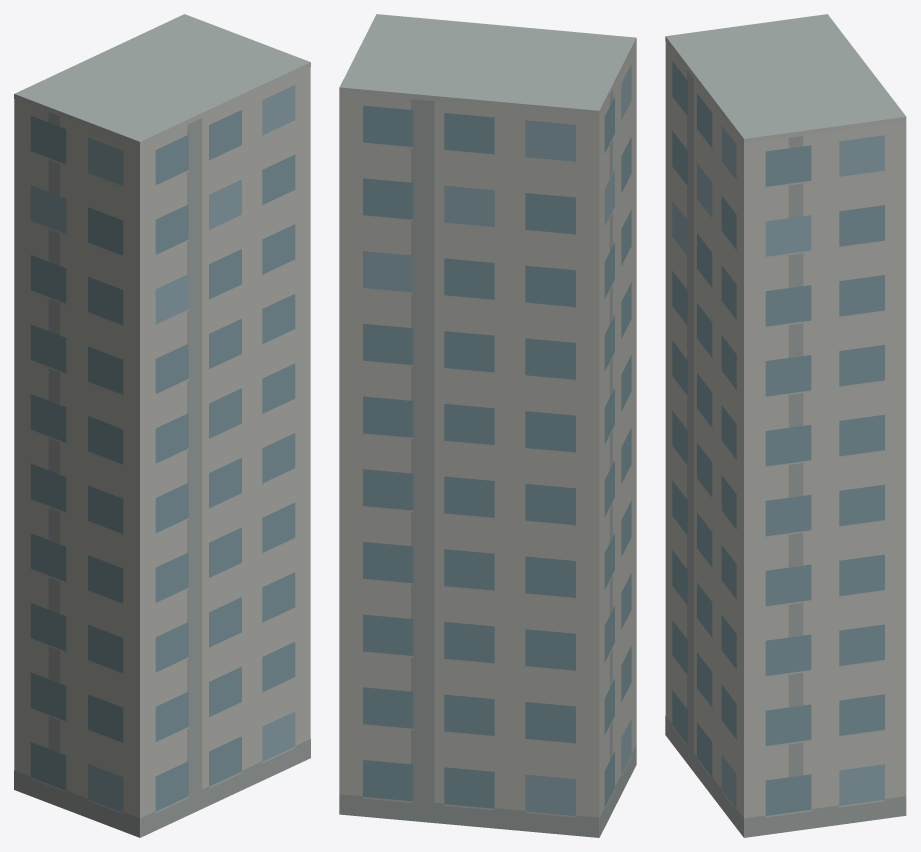
Rendered from residential-fab19299-84c8-4f86-9a23-18ff528c9137.glb.
The picture shows the model from 3 angles, left to right: view 1: azimuth 30°, elevation 25°; view 2: azimuth 150°, elevation 25°; view 3: azimuth 270°, elevation 25°; orthographic projection. The views are drawn at different scales.
Visible parts, largest first — view 1: residential-fab19299-84c8-4f86-9a23-18ff528c9137.tmp; view 2: residential-fab19299-84c8-4f86-9a23-18ff528c9137.tmp; view 3: residential-fab19299-84c8-4f86-9a23-18ff528c9137.tmp.
Part boxes in pixels (x1,y1,x2,y2): residential-fab19299-84c8-4f86-9a23-18ff528c9137.tmp: [14, 14, 310, 837]; residential-fab19299-84c8-4f86-9a23-18ff528c9137.tmp: [339, 14, 636, 837]; residential-fab19299-84c8-4f86-9a23-18ff528c9137.tmp: [665, 14, 906, 837].
Bounding box in the file's own units: 13.05 × 34 × 10.63.
